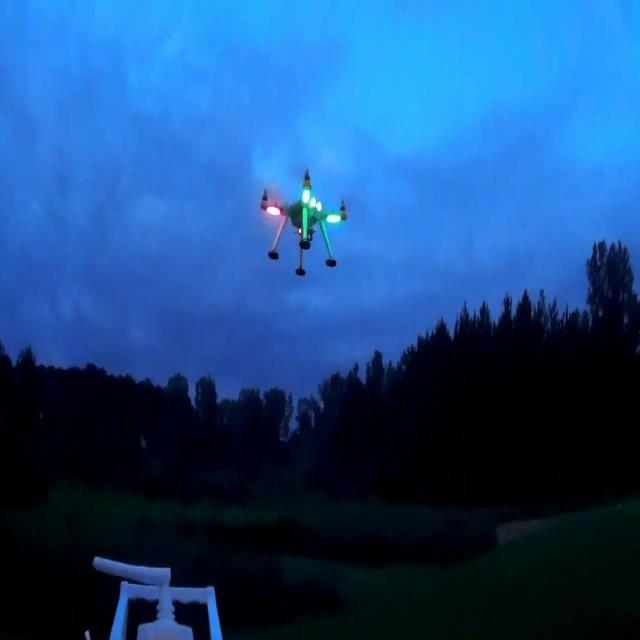UAV: (260, 168, 348, 276)
